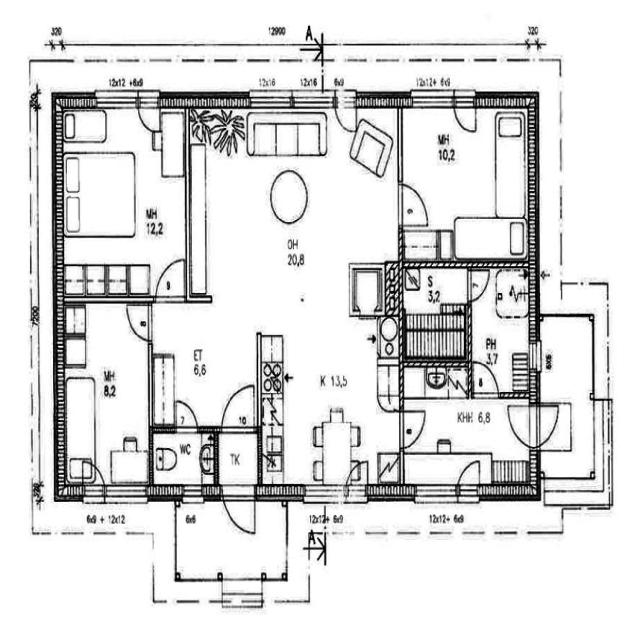door: (219, 381, 257, 432), (152, 255, 188, 304), (222, 489, 257, 538), (397, 179, 431, 229), (506, 400, 538, 448), (398, 406, 428, 451), (532, 403, 561, 449), (471, 359, 501, 399), (124, 300, 152, 342), (452, 92, 478, 135), (136, 92, 162, 135), (455, 458, 482, 499), (334, 90, 358, 135), (173, 397, 199, 432), (466, 267, 490, 304)
window: (412, 480, 458, 507), (103, 482, 149, 506), (95, 88, 139, 113), (248, 88, 296, 110), (303, 483, 348, 505), (409, 91, 453, 112), (180, 570, 219, 585), (345, 487, 370, 507), (181, 486, 206, 505), (365, 524, 389, 541), (82, 488, 104, 506), (264, 572, 284, 584), (385, 525, 399, 540), (196, 596, 212, 606), (82, 528, 96, 538)
zone: (193, 106, 386, 327), (57, 111, 187, 296), (59, 295, 151, 480), (398, 106, 500, 223), (470, 263, 533, 398), (402, 262, 468, 356), (536, 314, 594, 398), (150, 429, 217, 492), (452, 218, 527, 263), (217, 430, 259, 488), (350, 264, 386, 318), (150, 354, 175, 428), (402, 226, 441, 262)
